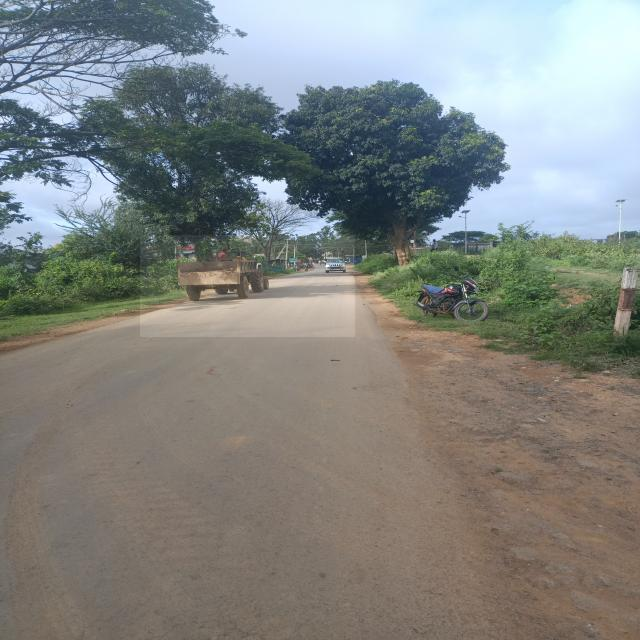Tractot: (140, 235, 355, 337)
